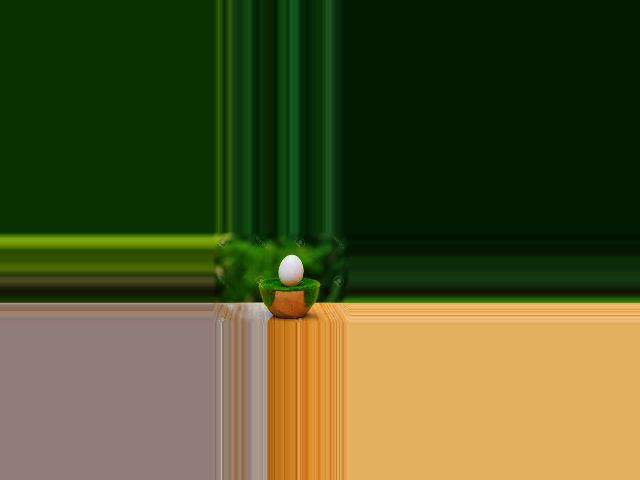egg: (277, 255, 302, 287)
